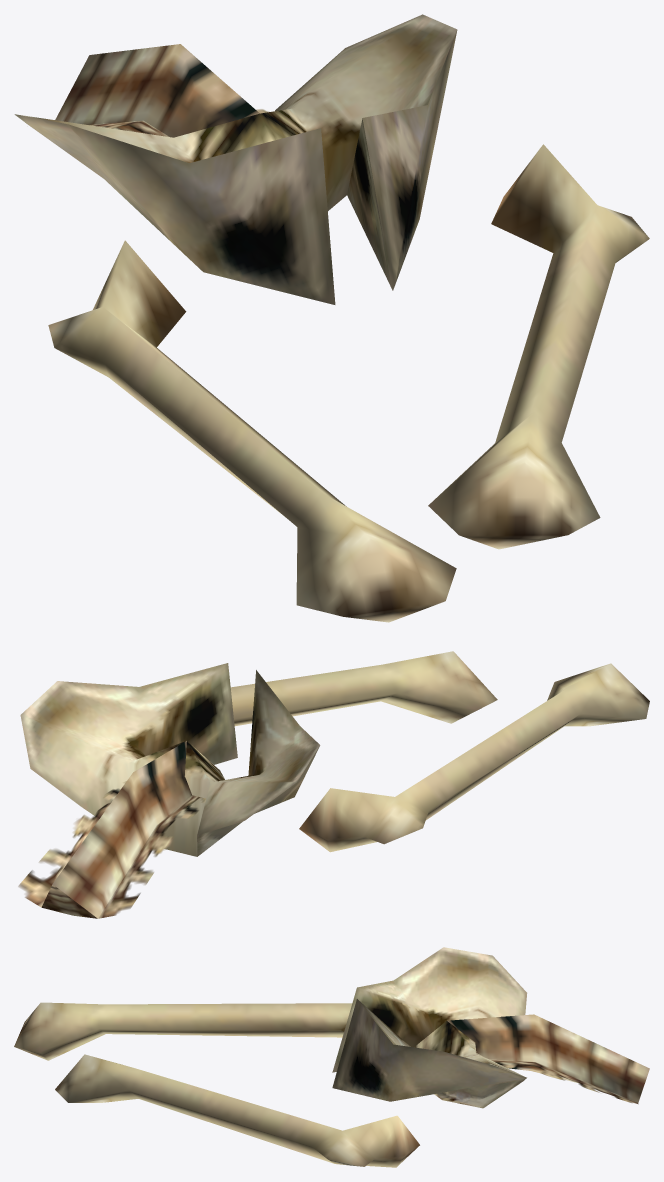
3 views of the same model, one above another, from view 1: azimuth 30°, elevation 25°; view 2: azimuth 150°, elevation 25°; view 3: azimuth 270°, elevation 25° (orthographic). The views are drawn at different scales.
Visible parts, largest first — view 1: d_sk_part4; view 2: d_sk_part4; view 3: d_sk_part4.
Boxes of the visible parts, left/top/right/bottom form: d_sk_part4: left=14, top=14, right=649, bottom=622; d_sk_part4: left=18, top=651, right=649, bottom=918; d_sk_part4: left=14, top=947, right=649, bottom=1167.
Size of the model in its own units: 0.4433 by 0.1625 by 0.7181.
Materials: 2 (2 with a texture image).
